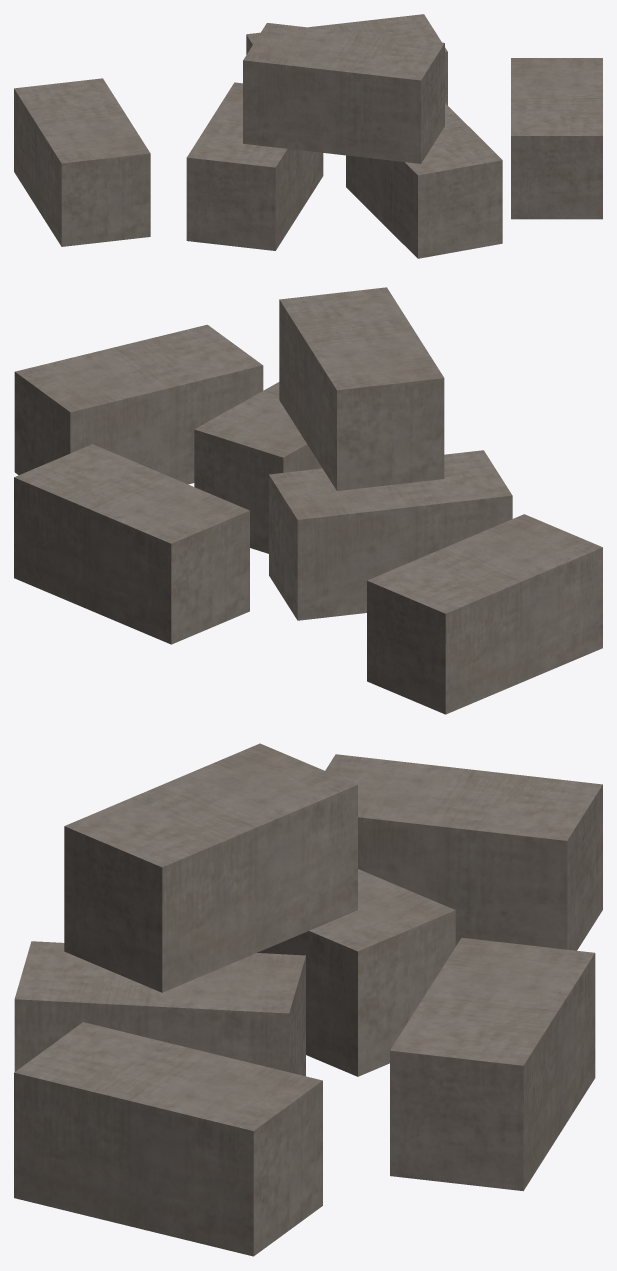
File: detailBricks_typeB.fbx
3 views of the same model, one above another, from view 1: azimuth 30°, elevation 25°; view 2: azimuth 150°, elevation 25°; view 3: azimuth 270°, elevation 25° (orthographic). The views are drawn at different scales.
Parts seen in each view (by area): view 1: detailBricks_typeB; view 2: detailBricks_typeB; view 3: detailBricks_typeB.
Boxes of the visible parts, x1=… form: detailBricks_typeB: x1=14, y1=14, x2=602, y2=258; detailBricks_typeB: x1=14, y1=287, x2=602, y2=714; detailBricks_typeB: x1=14, y1=743, x2=602, y2=1256.
Size of the model in its own units: 6.45 by 2 by 4.26.
